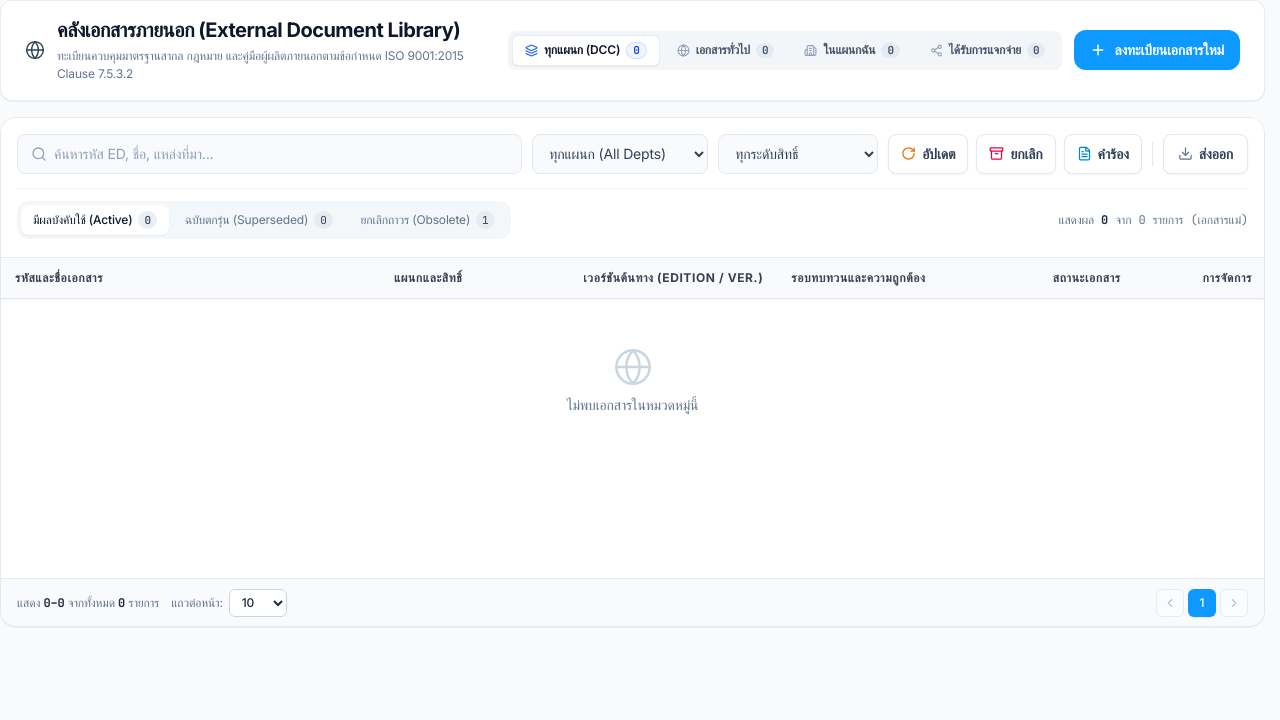
Test: DCC sees the whole register, every department and every status › external library: DCC opens on "ทุกแผนก" and finds QA superseded and obsolete documents
The width and height of the screenshot is (1280, 720).
Click the button "ยกเลิกถาวร (Obsolete) 1" at {"x": 428, "y": 220}, box [349,205,507,235]
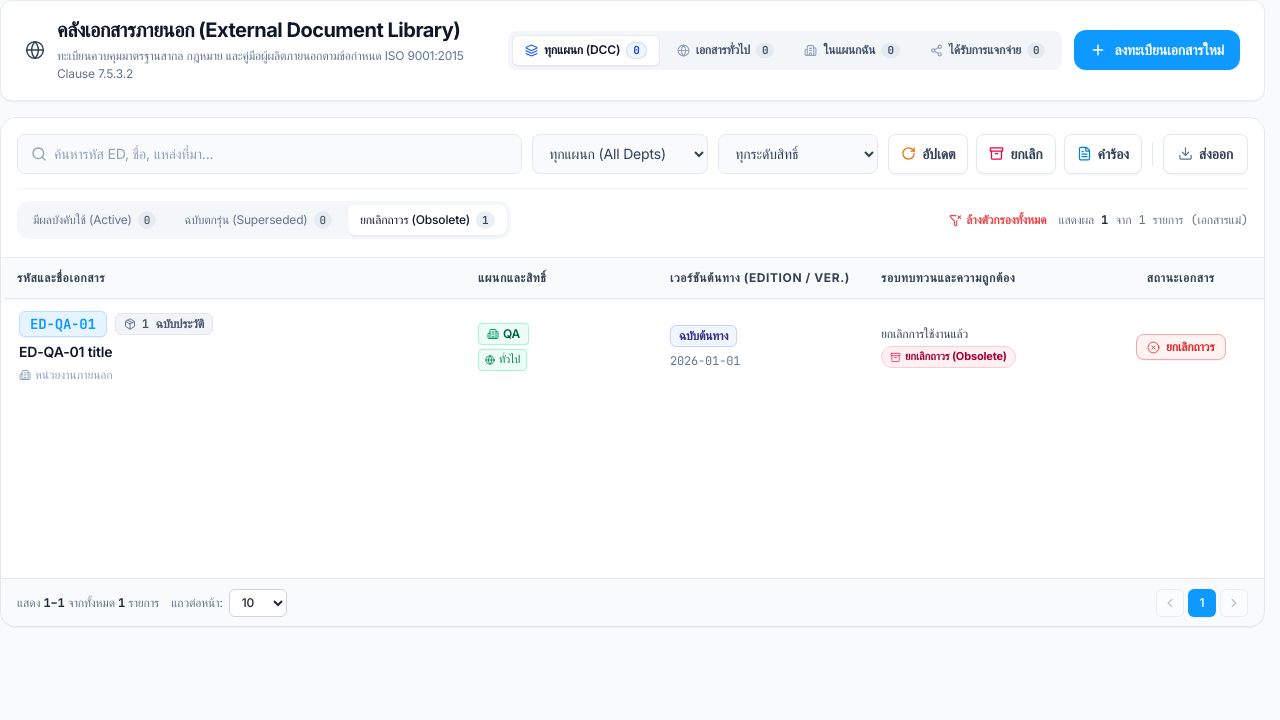
Result: the text "ED-QA-01" is shown at [19,311,107,337]
